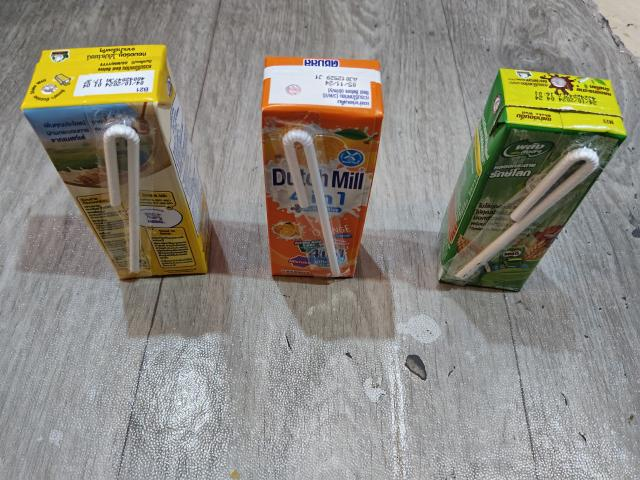drink_box: (16, 39, 221, 283), (428, 63, 633, 300), (261, 51, 389, 288)
